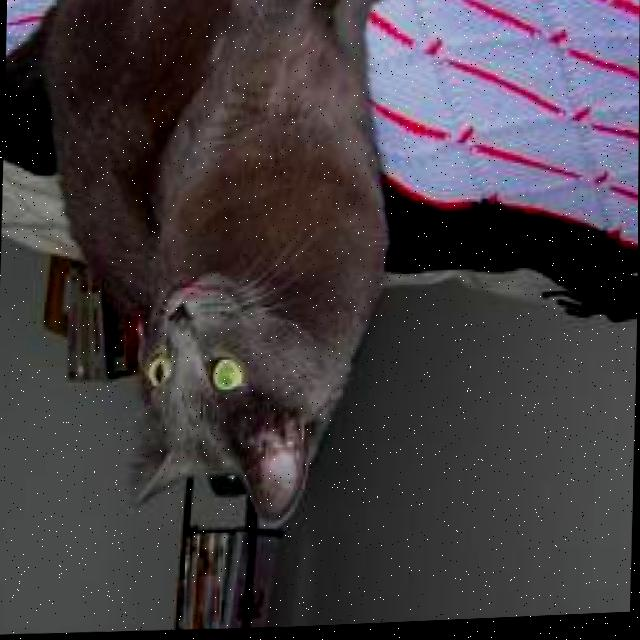Russian Blue: (0, 0, 411, 547)
